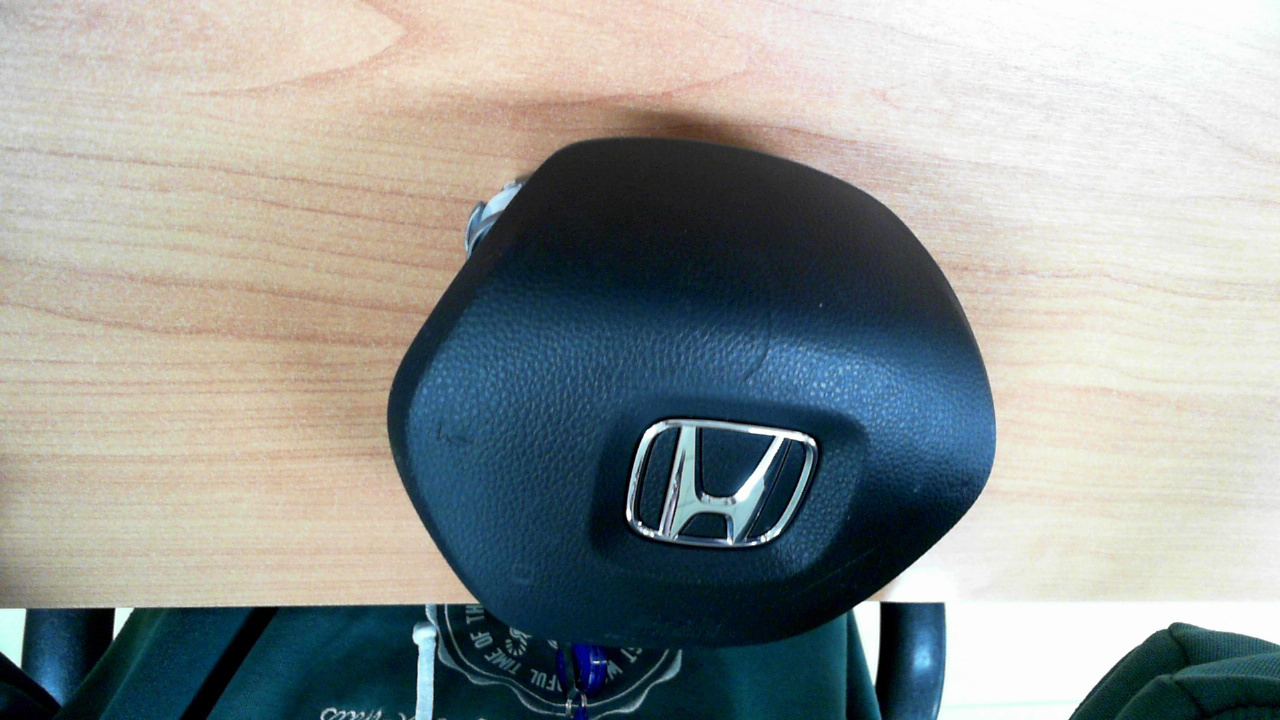Airbag: (387, 136, 998, 649)
Honda: (626, 418, 818, 548)
